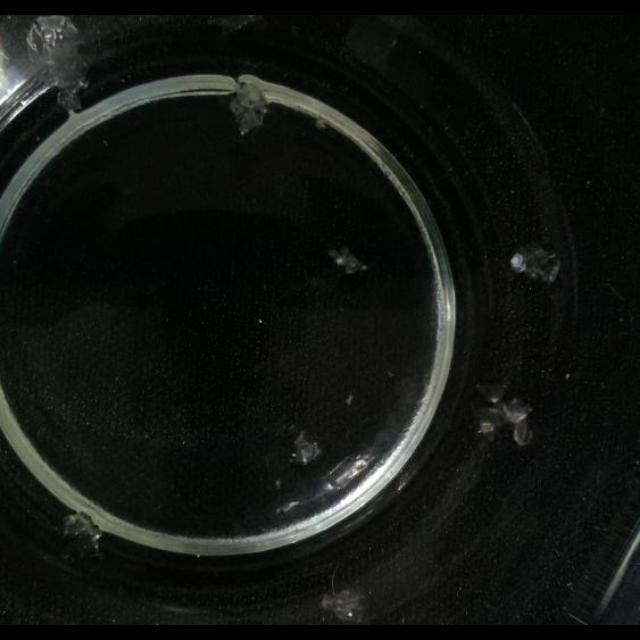Fibre: (472, 387, 534, 447), (230, 81, 270, 135), (59, 512, 101, 560), (512, 245, 560, 285), (320, 584, 366, 624), (290, 431, 324, 465), (328, 246, 366, 274), (276, 500, 300, 514)
